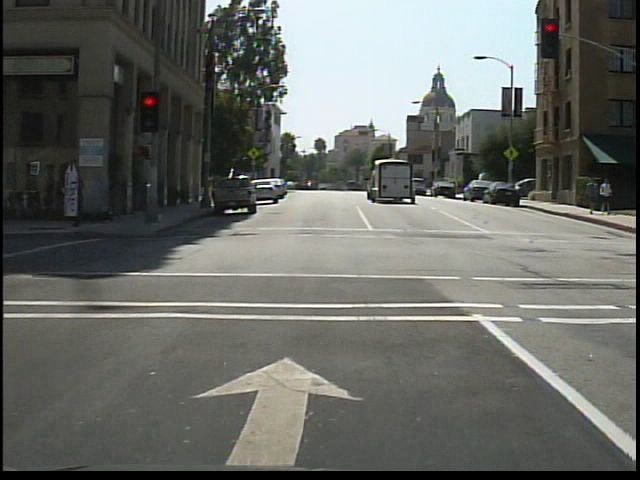person: (62, 168, 102, 233), (583, 175, 601, 216), (599, 176, 615, 219)
